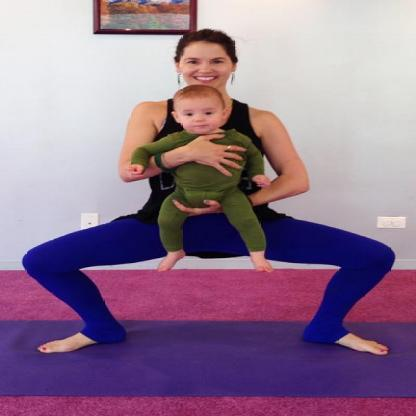godness: (13, 22, 401, 368)
